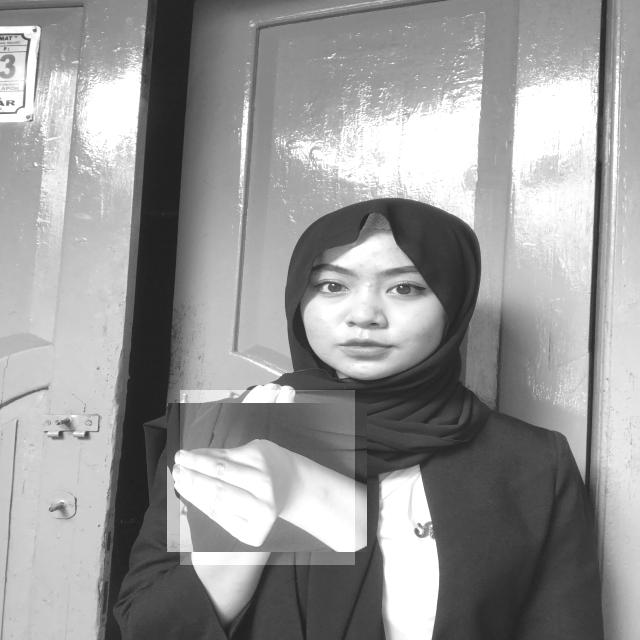kapan: (180, 390, 355, 565)
